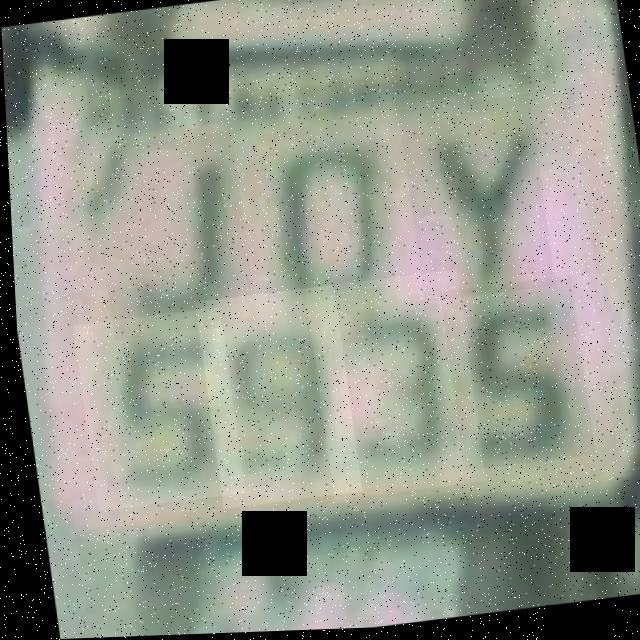3: (301, 272, 481, 502)
5: (68, 308, 240, 512), (436, 279, 590, 474)
9: (190, 287, 357, 510)
J: (85, 132, 254, 341)
Y: (396, 97, 552, 305)
